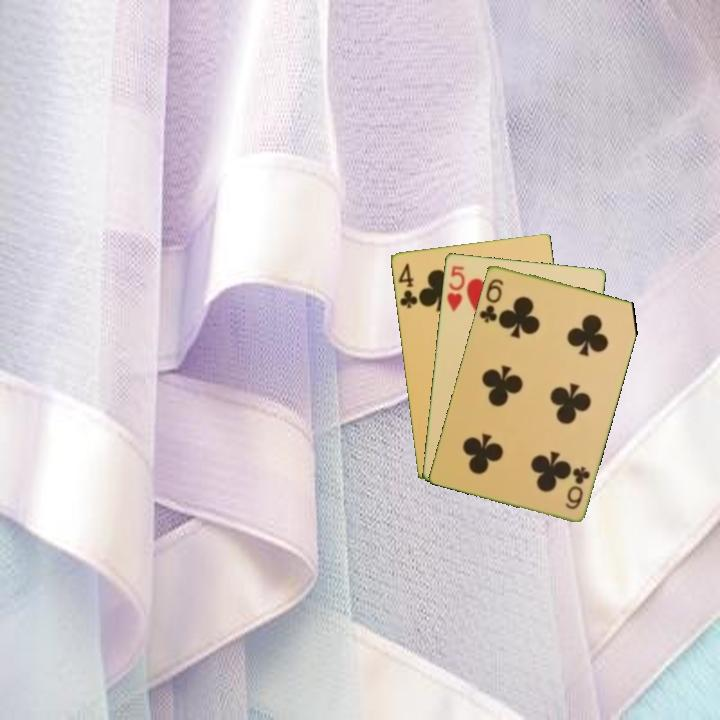4c: (395, 260, 420, 311)
5h: (443, 262, 468, 314)
6c: (476, 275, 506, 326), (562, 463, 593, 512)
